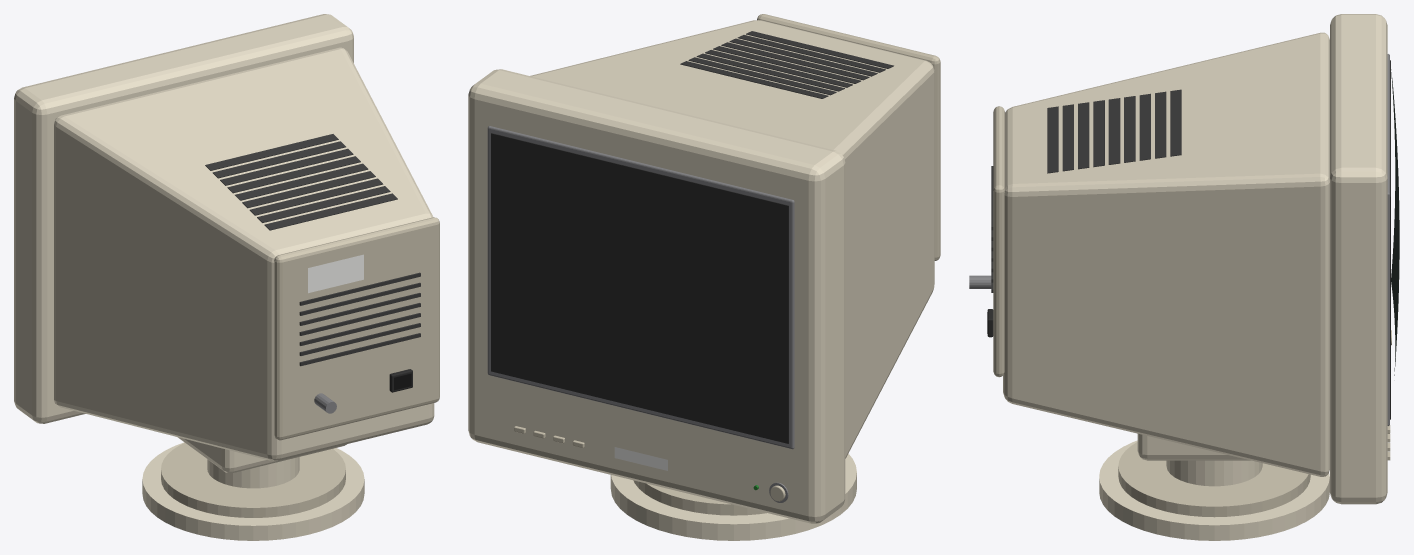
The model's file is crt_17.glb.
The picture shows the model from 3 angles, left to right: view 1: azimuth 30°, elevation 25°; view 2: azimuth 150°, elevation 25°; view 3: azimuth 270°, elevation 25°; orthographic projection. The views are drawn at different scales.
Visible parts, largest first — view 1: body, label; view 2: body, badge_front; view 3: body, screen.
Boxes of the visible parts, x1,y1,x2,y2 form: body: [14, 14, 439, 540]; label: [308, 254, 363, 293]; body: [468, 14, 940, 540]; badge_front: [614, 447, 667, 470]; body: [969, 14, 1390, 540]; screen: [1391, 69, 1399, 375].
Bounding box in the file's own units: 0.4 × 0.46 × 0.4475.
